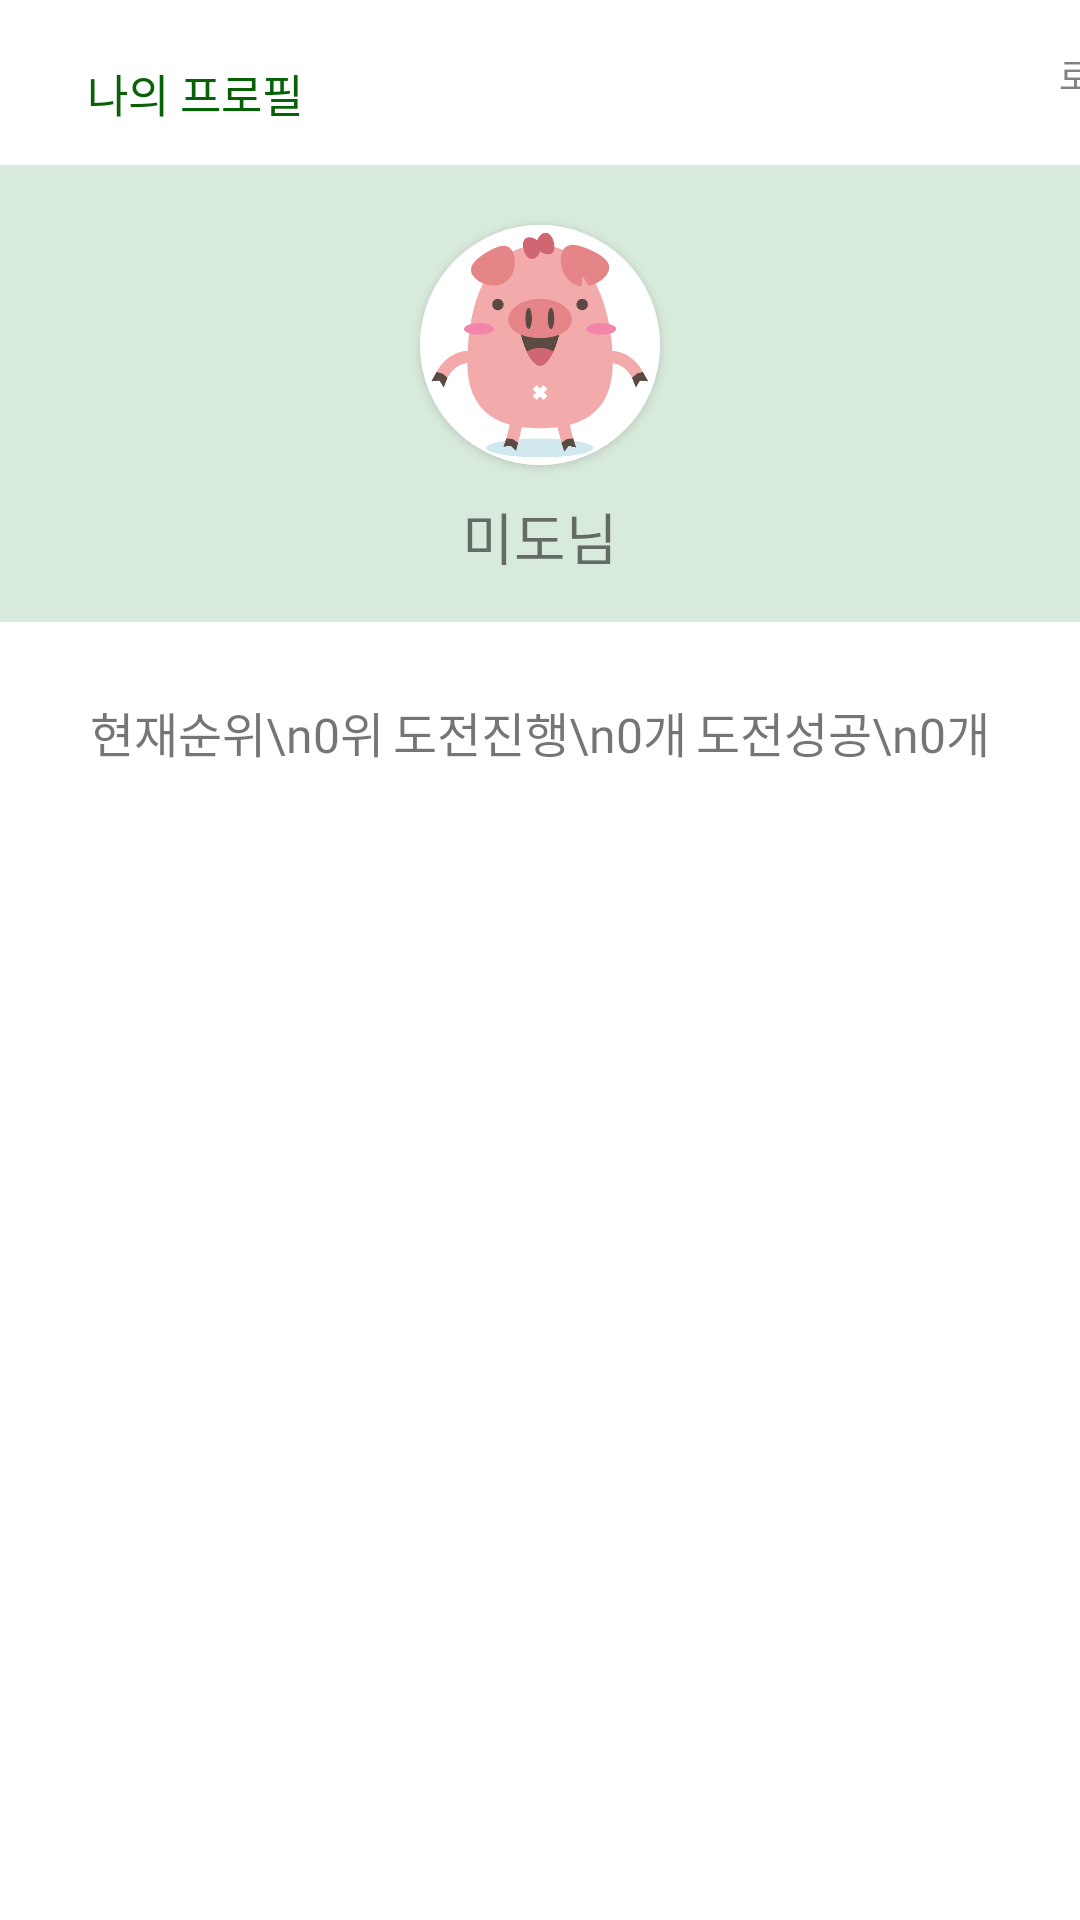

Where icons sit on this 1080*1920 app screen, as (x1=x1, y1=y1, x2=x2, y2=y2):
pig: (x1=420, y1=225, x2=660, y2=465)
